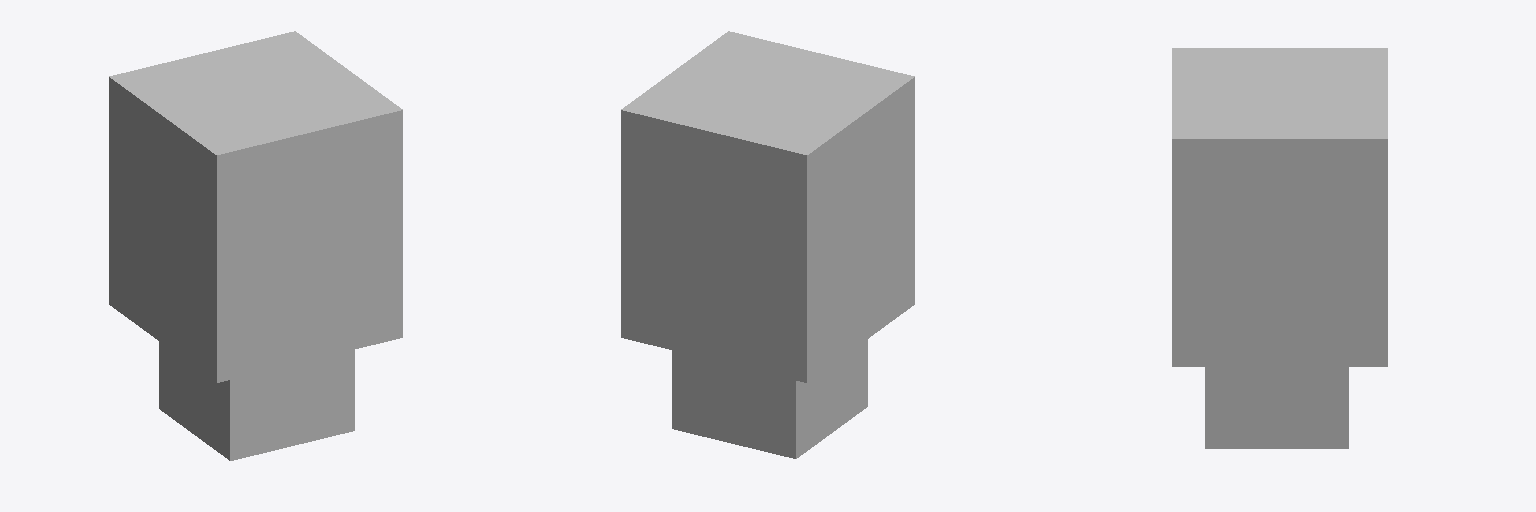
The model's file is TreeMedium.obj.
3 renders of one model, left to right at view 1: azimuth 30°, elevation 25°; view 2: azimuth 150°, elevation 25°; view 3: azimuth 270°, elevation 25°, orthographic.
Visible parts, largest first — view 1: Object006; view 2: Object006; view 3: Object006.
Boxes of the visible parts, x1,y1,x2,y2 form: Object006: [109, 31, 402, 460]; Object006: [621, 31, 914, 458]; Object006: [1172, 48, 1387, 448].
Bounding box in the file's own units: 3 × 5 × 3.